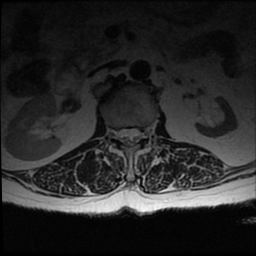CCS_normal: (126, 119, 132, 153)
LFS_normal: (141, 123, 149, 144)
LLS_normal: (133, 122, 140, 149)
RFS_normal: (110, 123, 117, 146)
RLS_normal: (118, 124, 126, 149)
